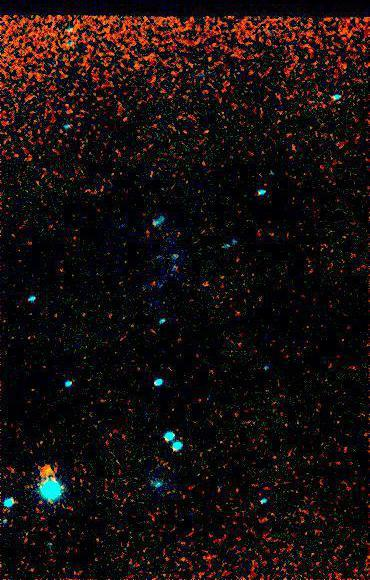star: (32, 455, 62, 485)
